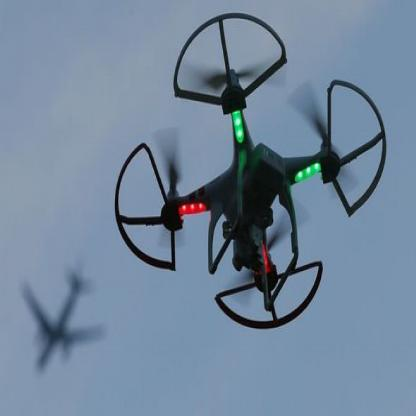drone: (113, 27, 389, 332)
